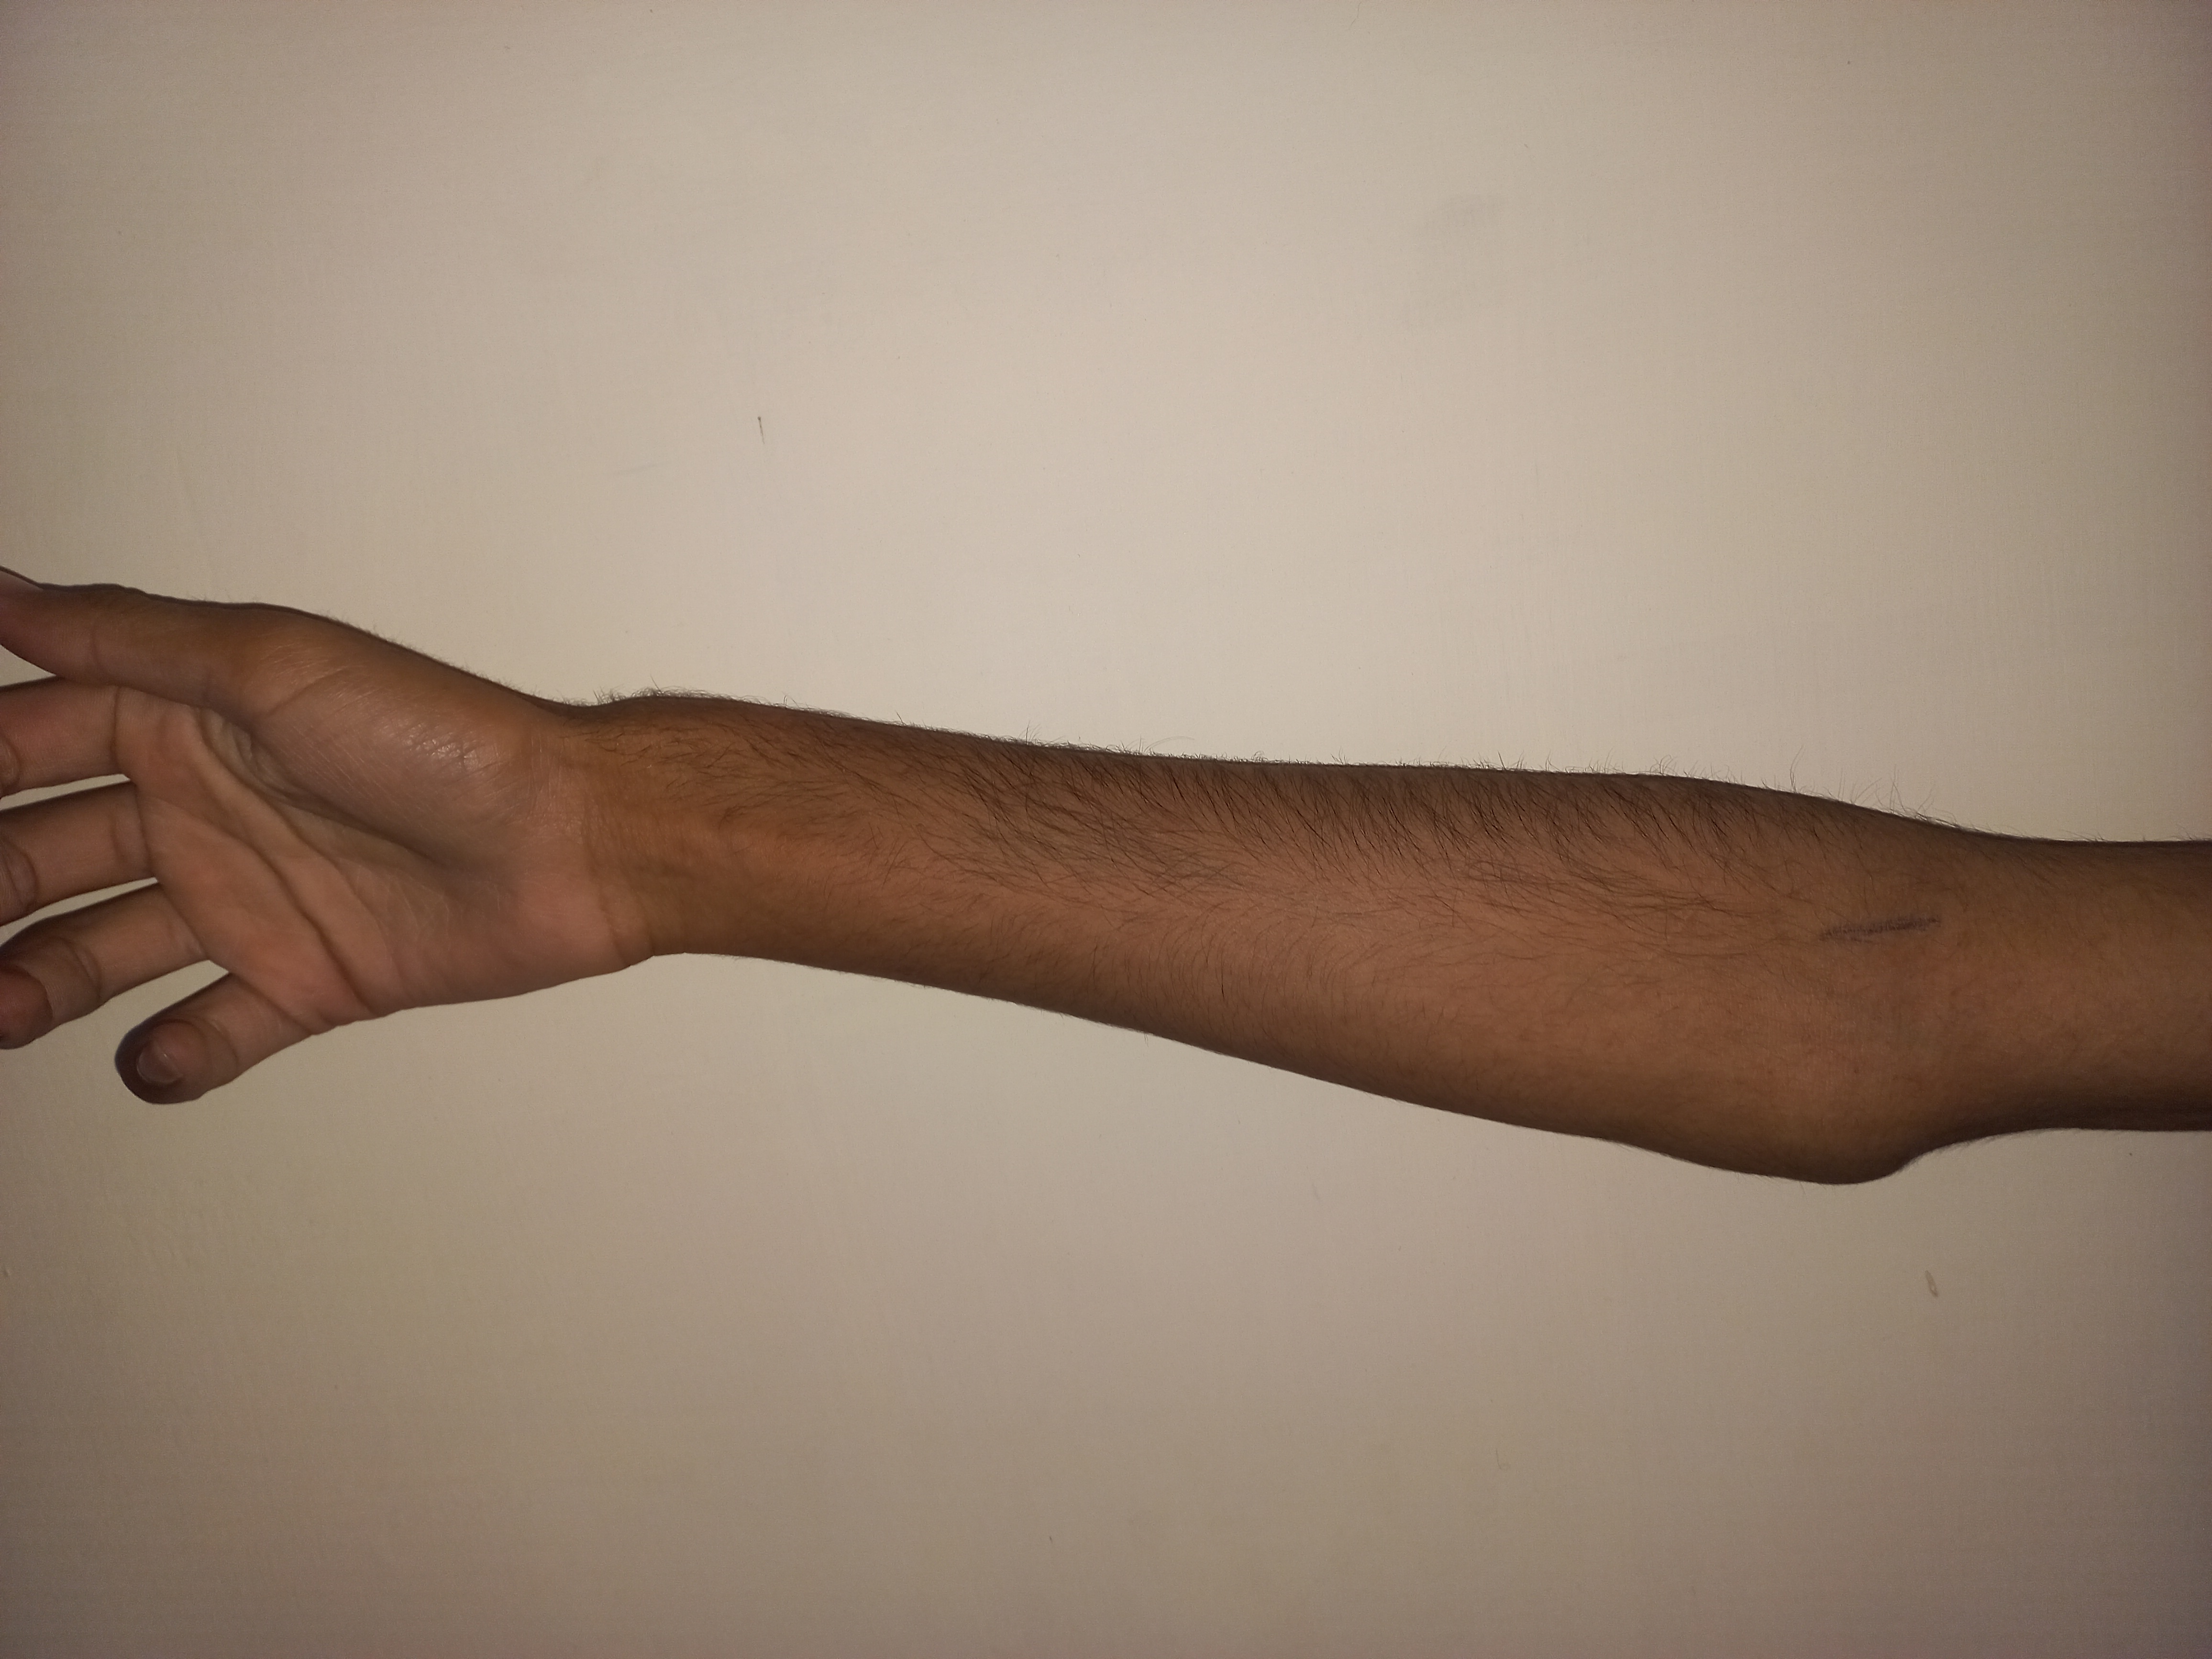vein: (1810, 897, 1984, 960)
